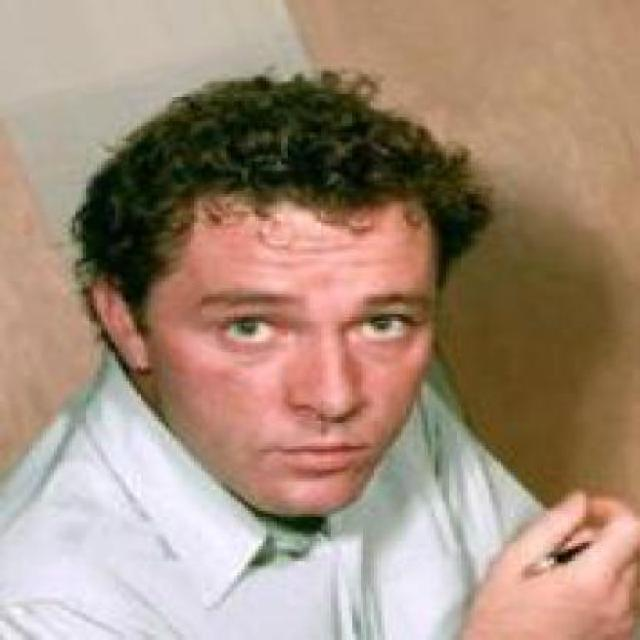closed-mouth: (270, 437, 372, 471)
